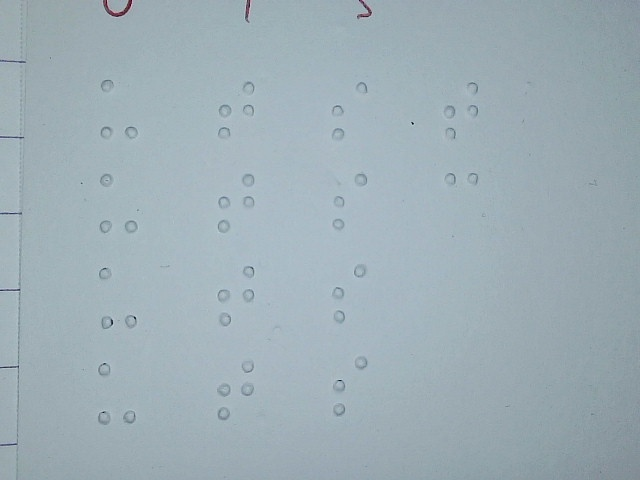S: (331, 79, 369, 141), (331, 170, 369, 232), (330, 262, 368, 324), (331, 353, 369, 415)
T: (217, 357, 255, 421), (217, 78, 255, 140), (217, 171, 255, 233), (217, 263, 255, 325)
U: (98, 266, 138, 329), (97, 362, 137, 425), (99, 172, 138, 234), (100, 78, 138, 140)
